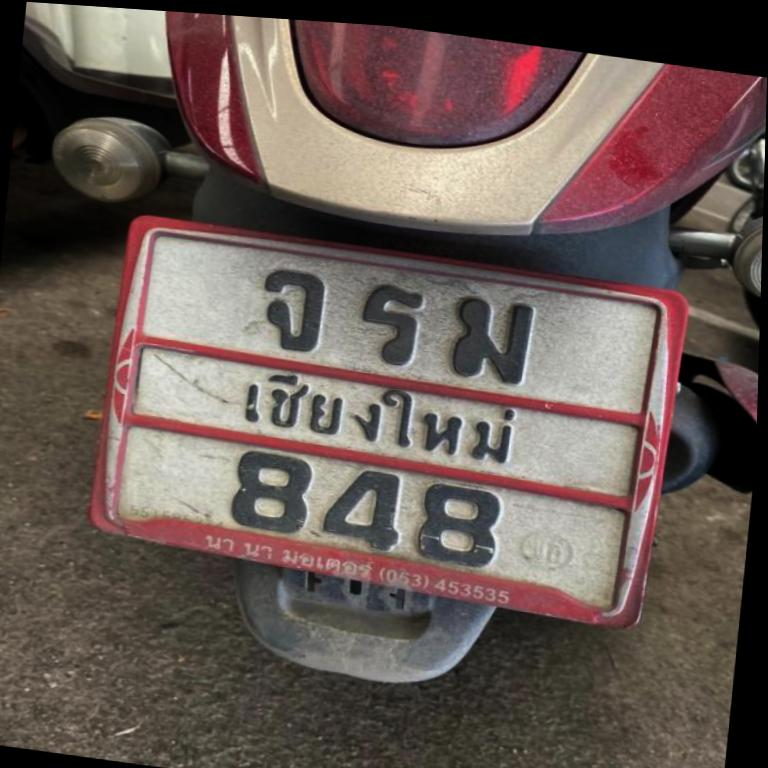license plate: (90, 217, 685, 625)
